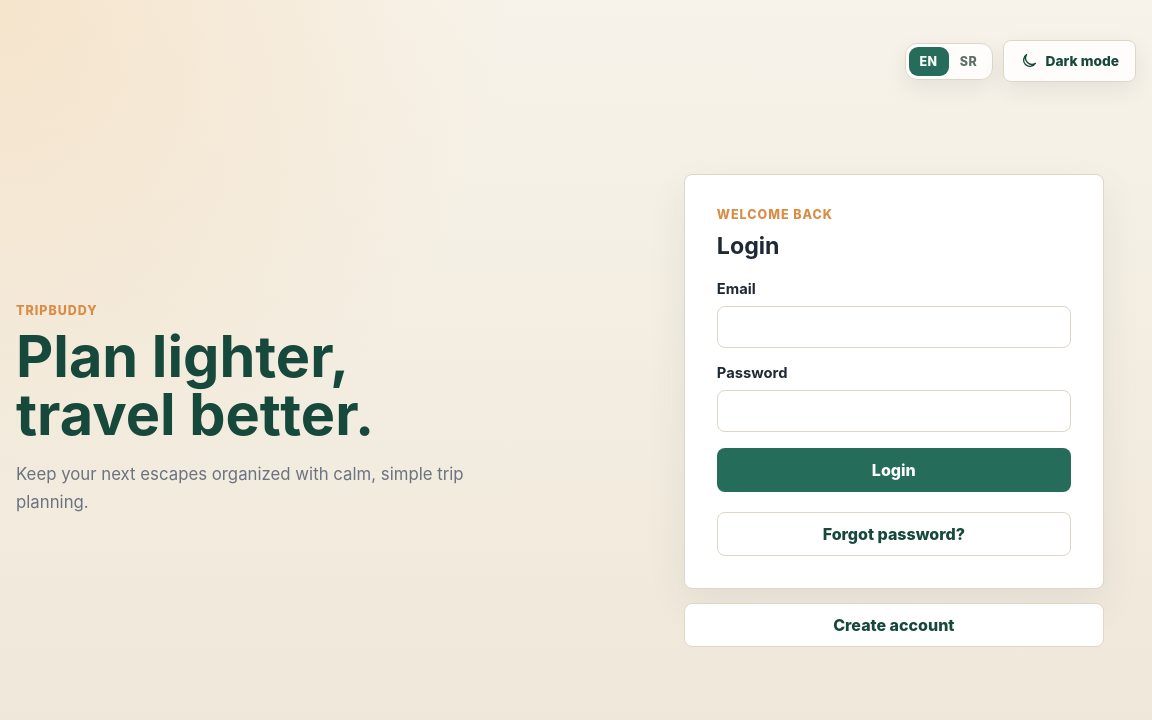
TripBuddy frontend › switches to register page
Click the button "Create account" at (894, 624), box [684,602,1104,646]
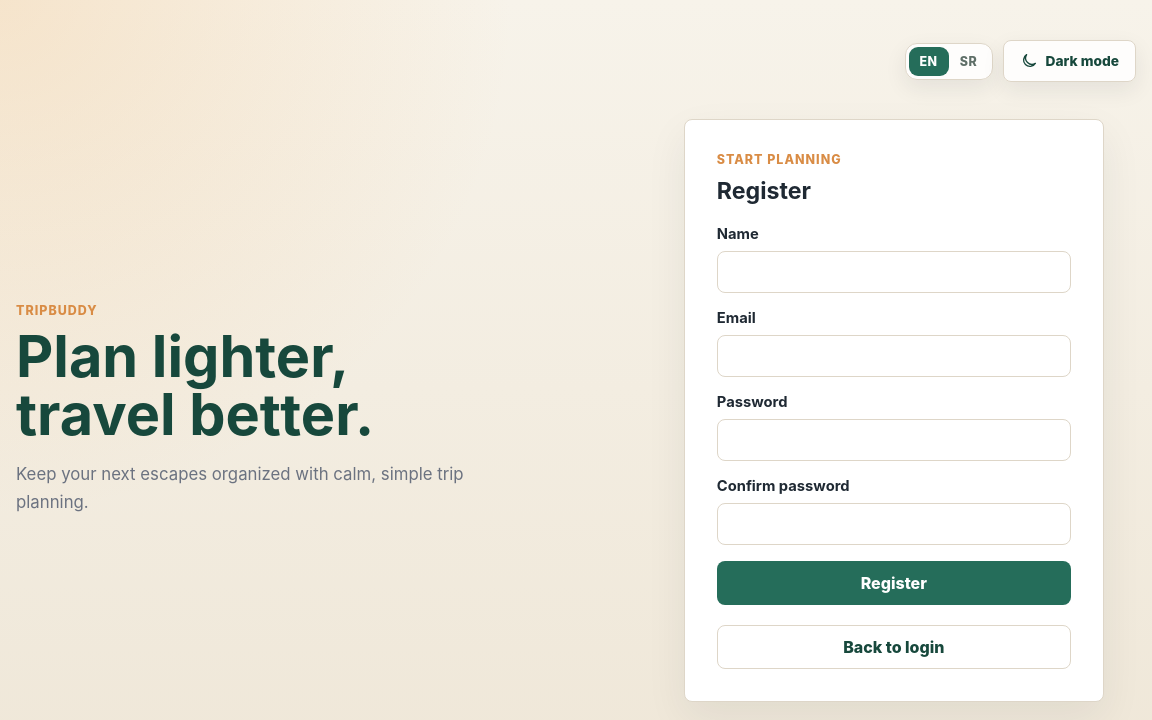
Now the heading "Register" is shown, box [717,176,811,204]
